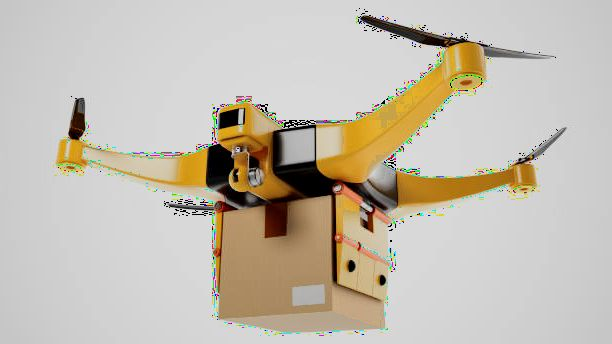Drone: (50, 12, 570, 216)
